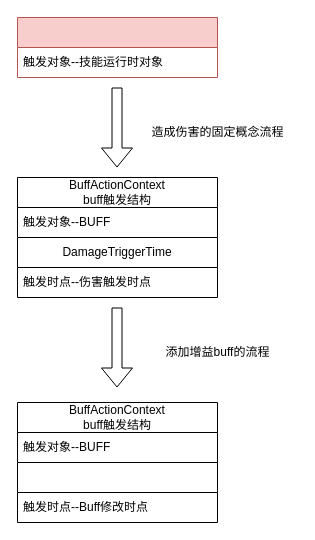
Image size: 315x540. Some labels were removed from this diagram. The box of each missing label's shape, as (x1, y1, x2, y2) in pixels:
BuffChangeTriggerTime: (16, 462, 218, 522)
SkillFrameActionContext 技能运行时结构: (16, 16, 218, 78)
